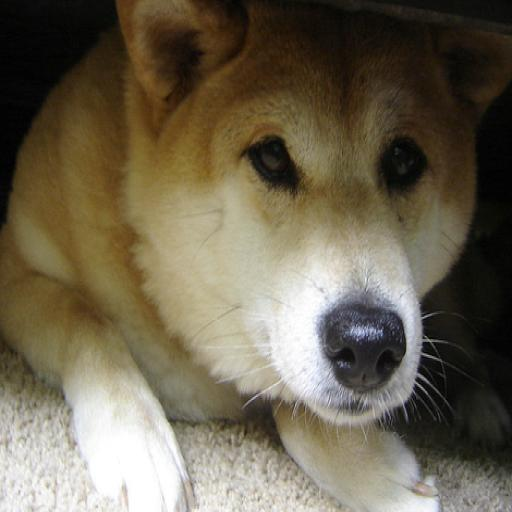dog_face: (122, 1, 508, 408)
